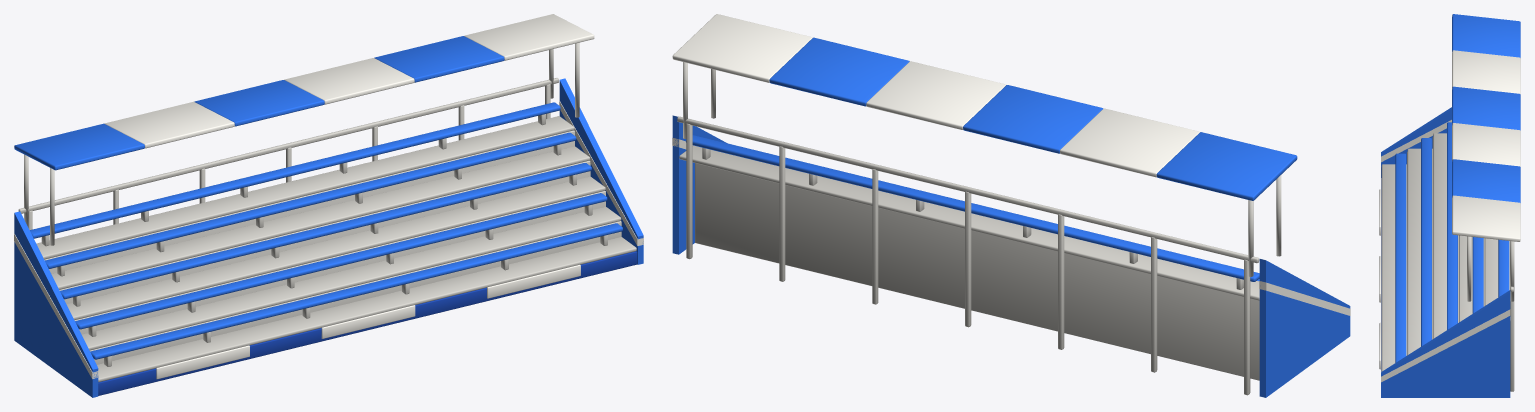
The model's file is bleachers.glb.
3 views of the same model, side by side, from view 1: azimuth 30°, elevation 25°; view 2: azimuth 150°, elevation 25°; view 3: azimuth 270°, elevation 25° (orthographic). The views are drawn at different scales.
Parts seen in each view (by area): view 1: Bleachers; view 2: Bleachers; view 3: Bleachers.
Part boxes in pixels (bbox=[...]): Bleachers: bbox=[14, 14, 643, 397]; Bleachers: bbox=[672, 14, 1350, 397]; Bleachers: bbox=[1379, 14, 1520, 397].
Bounding box in the file's own units: 15.34 × 5.28 × 4.11.
